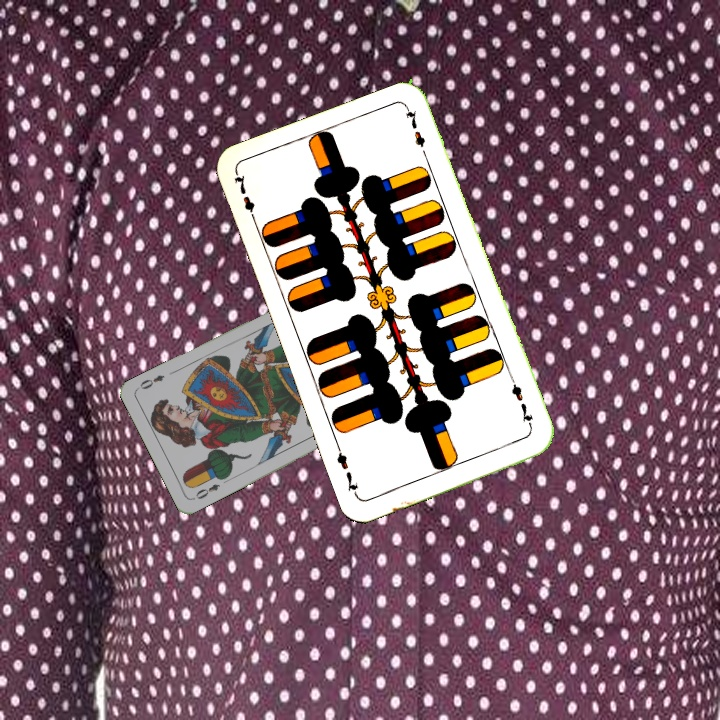E7: (230, 170, 260, 227), (507, 376, 536, 433)
EO: (191, 480, 222, 502)
